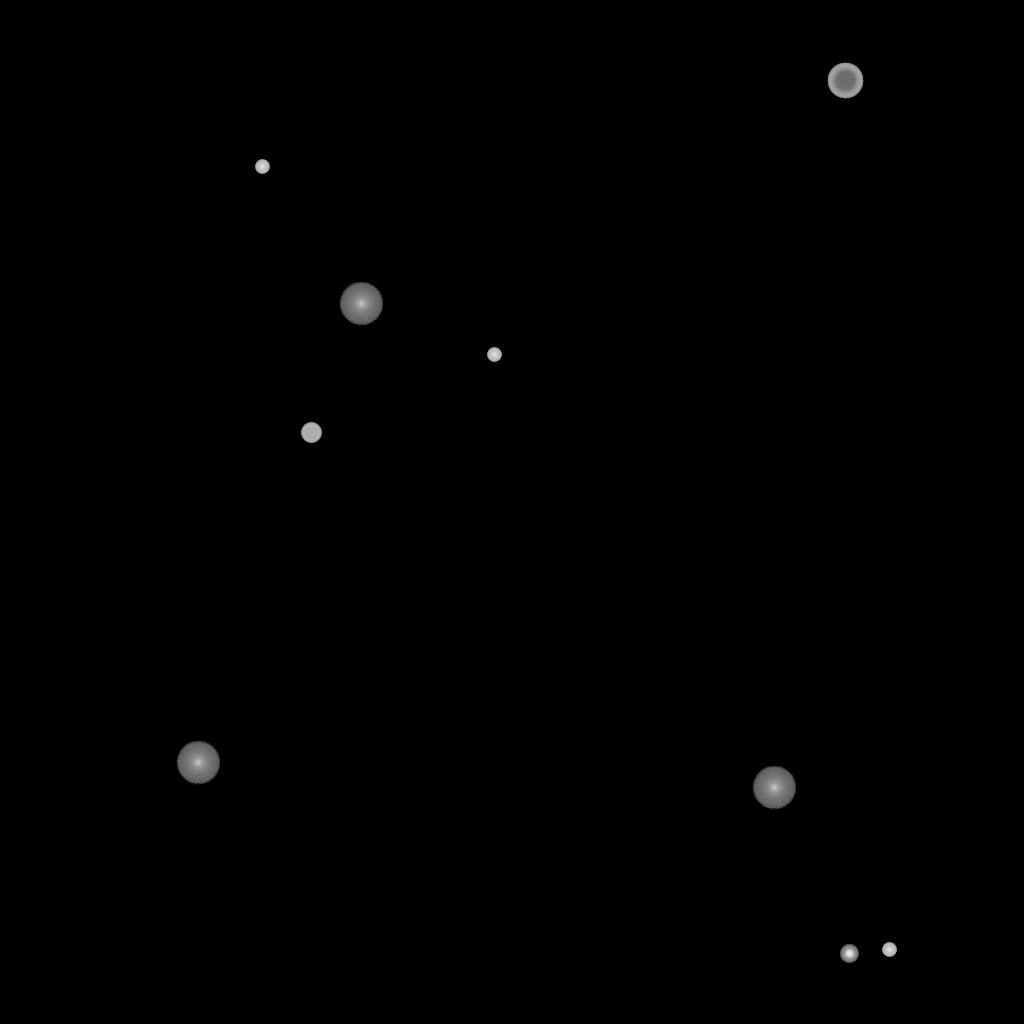depth:-20: (840, 945, 858, 963)
depth:-30: (255, 160, 269, 174), (882, 943, 896, 957), (487, 348, 501, 362)
depth:-40: (301, 423, 321, 443)
depth:-60: (827, 63, 863, 99)
depth:10: (339, 282, 383, 326), (752, 766, 796, 810), (176, 741, 220, 785)
